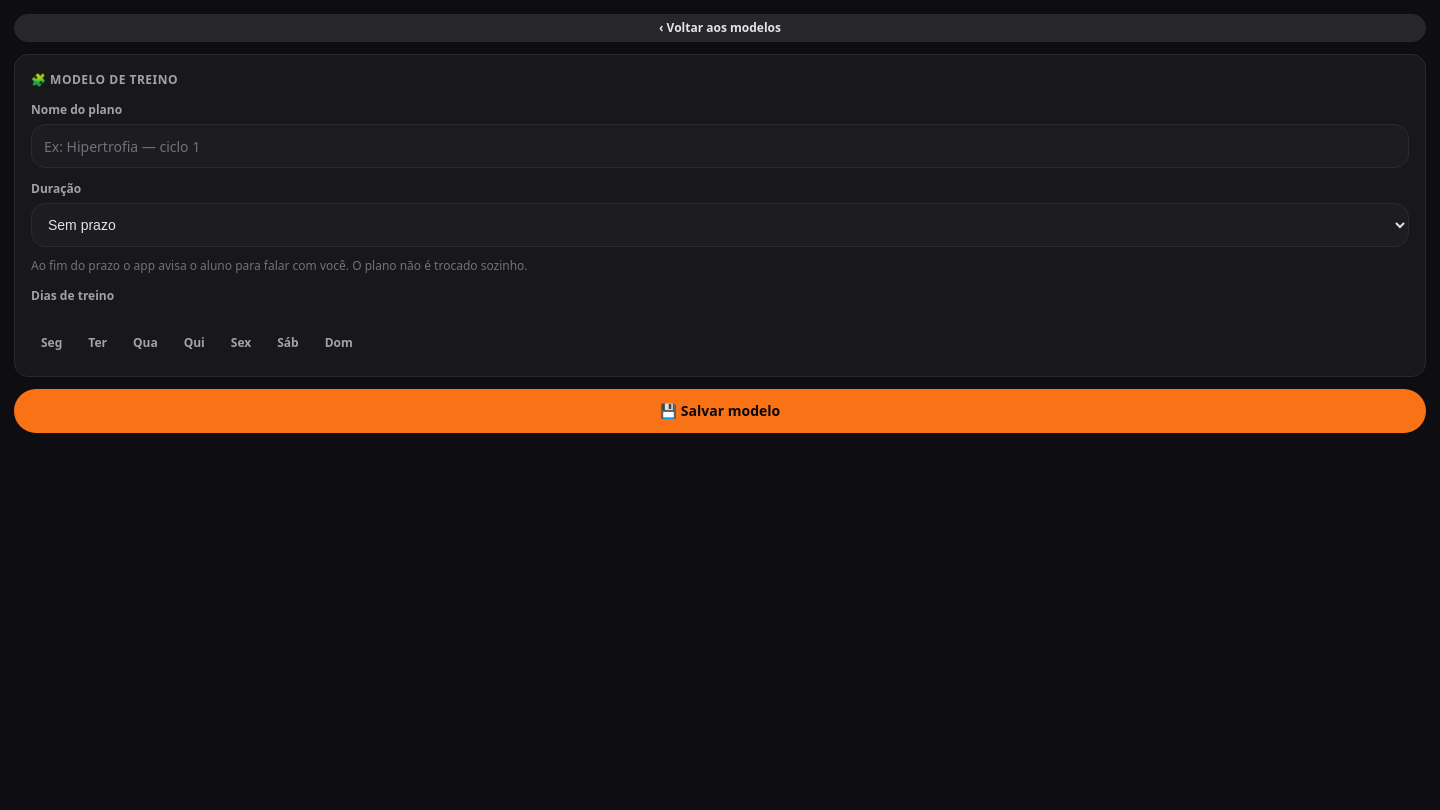
Scenario: PlanBuilder — modelo (sem aluno) › escolher um exercício da biblioteca preenche séries, reps, descanso e técnica
Expected: the field labelled "Nome do plano" is shown, [31, 124, 1409, 168]
Click the button "Seg" at coordinates (52, 342), box [31, 329, 72, 356]
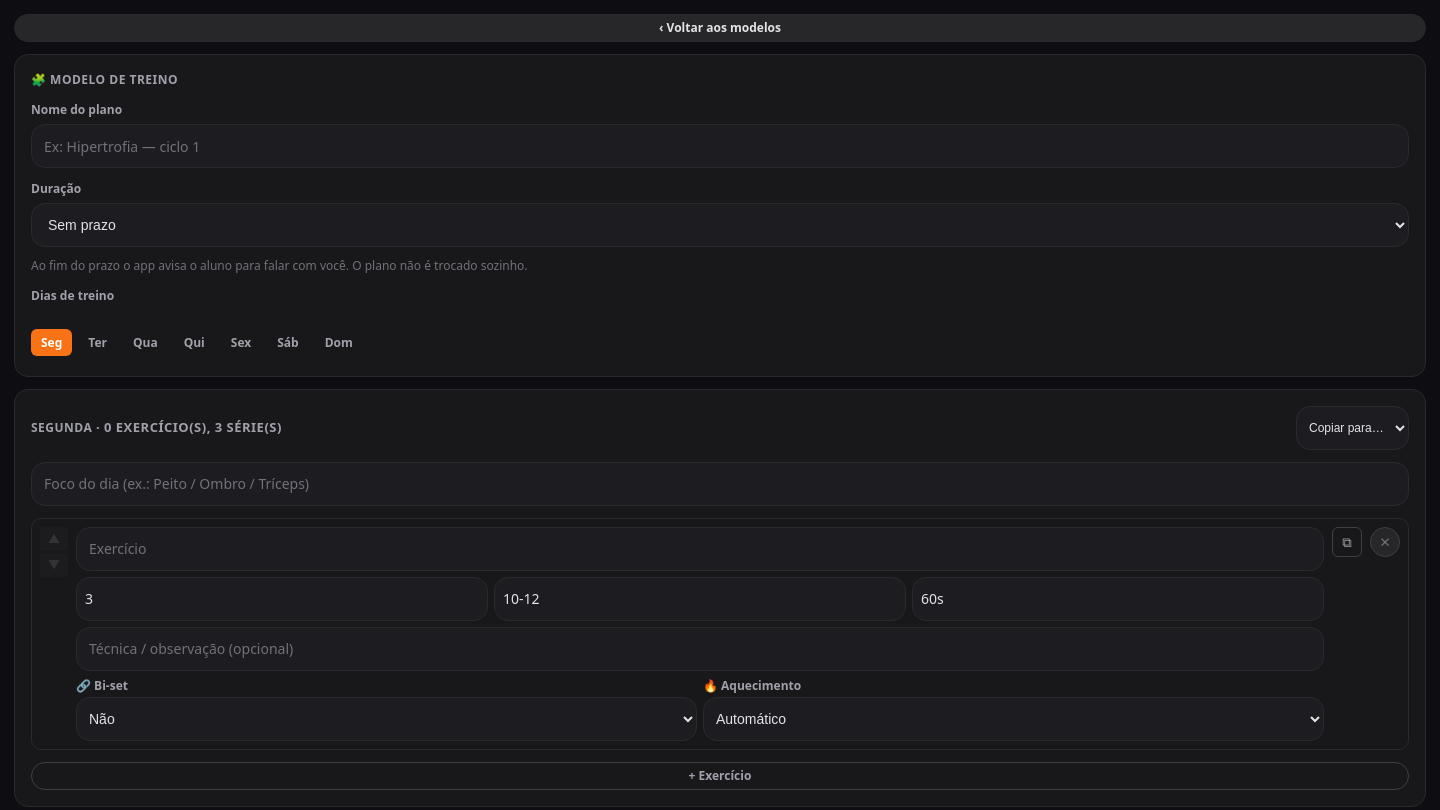
Type "supino reto com barra" into the field with placeholder "Exercício" at coordinates (700, 549), box [76, 527, 1324, 571]
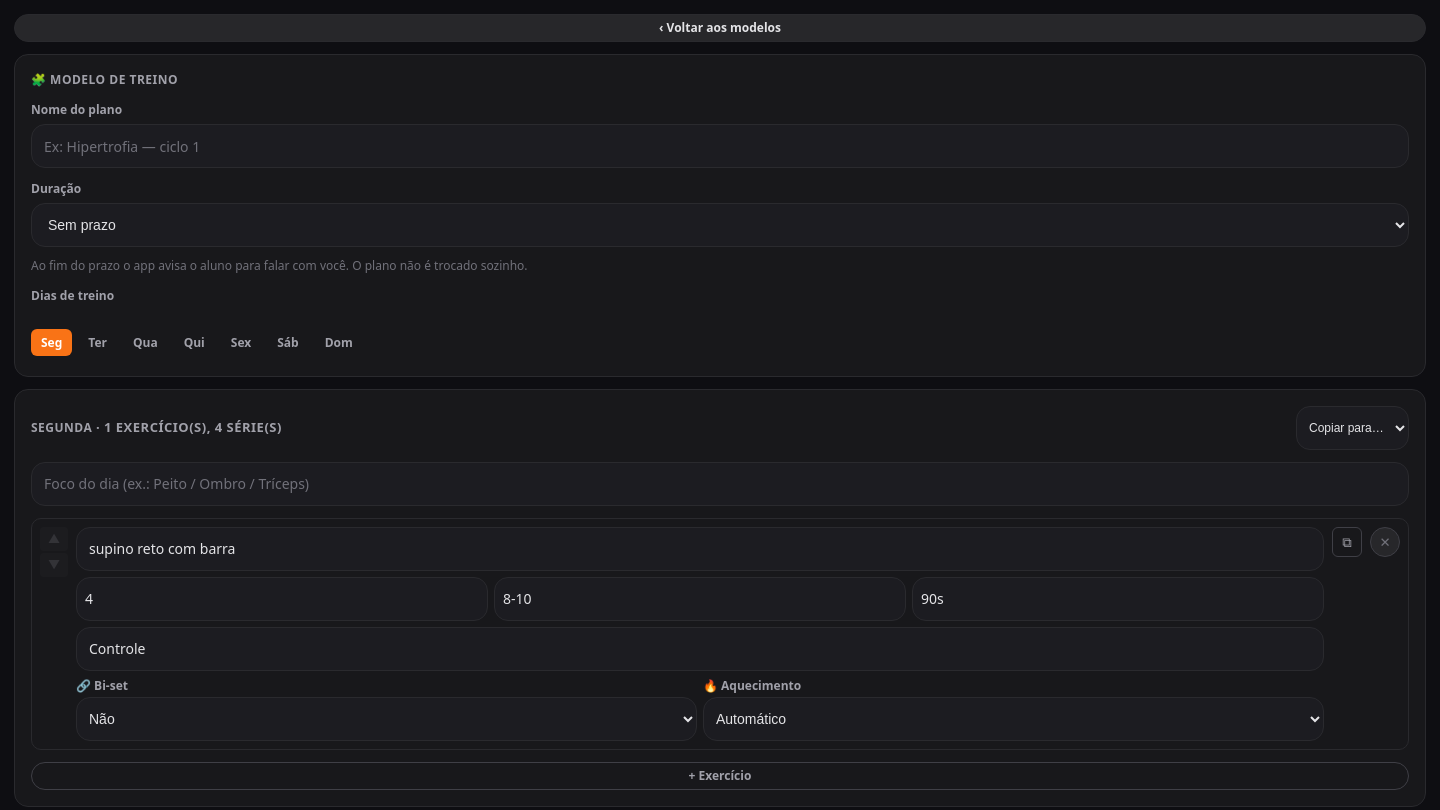
Expected: the 2nd field showing "4" is shown, [76, 577, 488, 621]
Expected: the 3rd field showing "8-10" is shown, [494, 577, 906, 621]
Expected: the 4th field showing "90s" is shown, [912, 577, 1324, 621]
